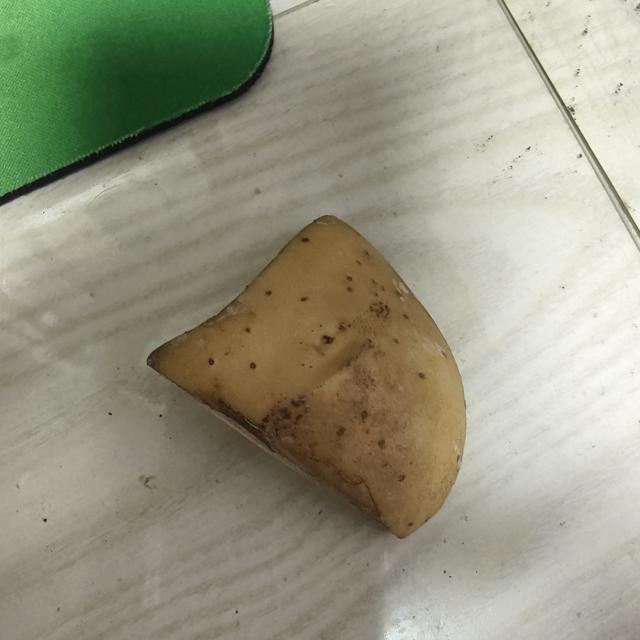-Kitchen waste - potato-: (146, 216, 472, 550)
